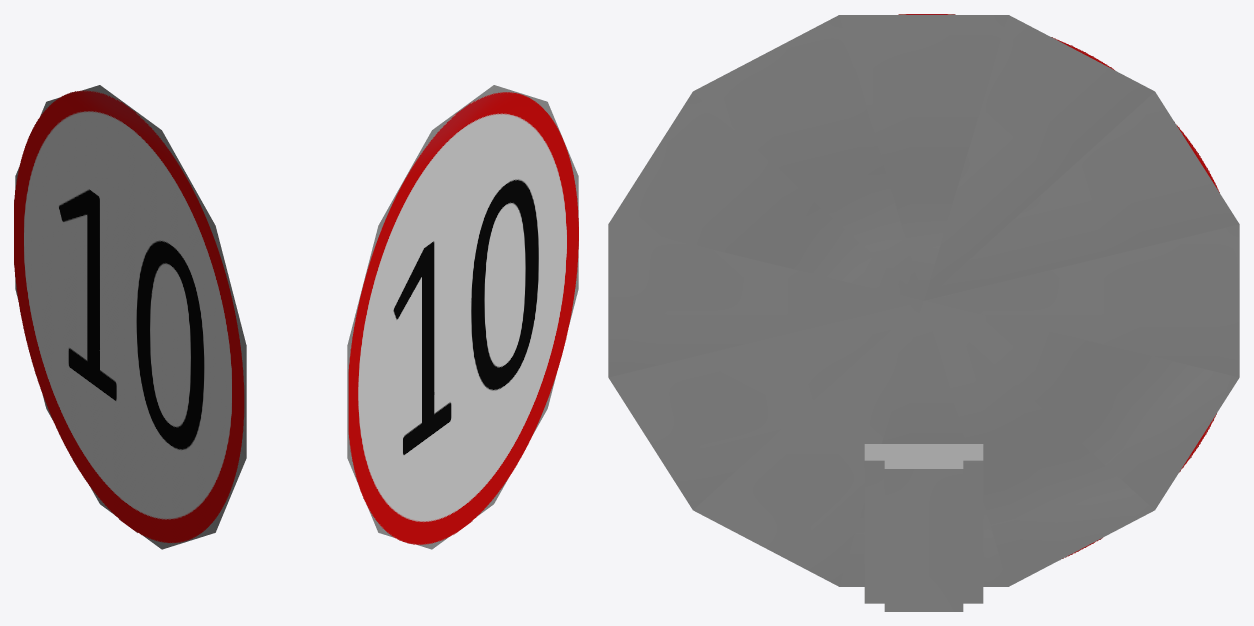
File: speed_10_small.obj
3 renders of one model, left to right at view 1: azimuth 30°, elevation 25°; view 2: azimuth 150°, elevation 25°; view 3: azimuth 270°, elevation 25°, orthographic. The views are drawn at different scales.
Visible parts, largest first — view 1: cube, circle; view 2: cube, circle; view 3: circle, cube.
Boxes of the visible parts, <box> form: cube: <box>14,90,244,543</box>; circle: <box>15,85,246,549</box>; cube: <box>348,92,578,544</box>; circle: <box>347,85,578,549</box>; circle: <box>608,15,1239,586</box>; cube: <box>864,14,1219,611</box>.
Bounding box in the file's own units: 0.0484 × 0.5 × 0.5.
Materials: 2 (2 with a texture image).
